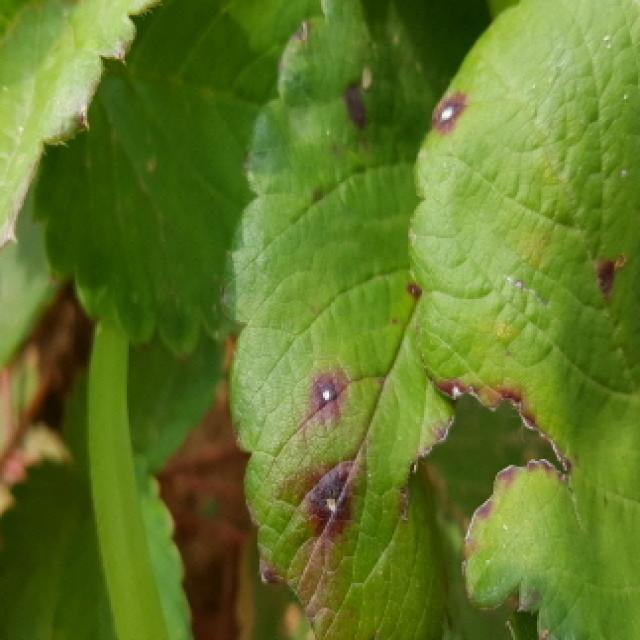Leaf Spot: (226, 0, 495, 640), (410, 0, 640, 640)
